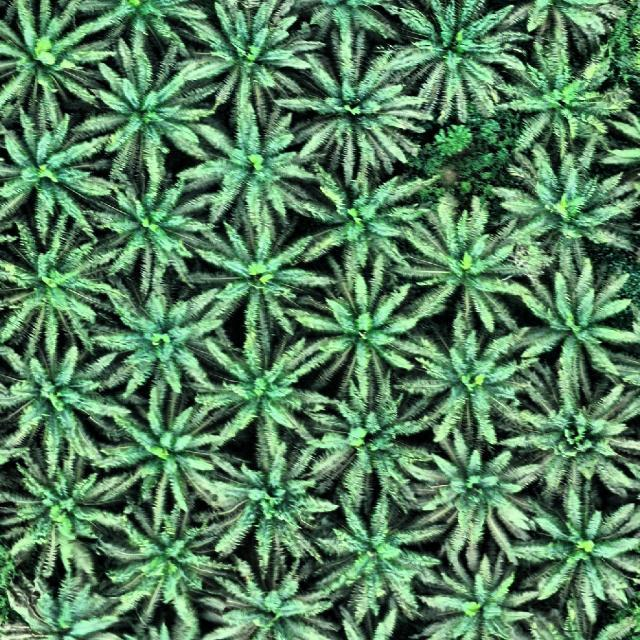Kelapa_Sawit: (300, 59, 428, 172), (215, 452, 332, 574), (523, 270, 636, 394), (306, 161, 422, 281), (508, 153, 625, 270), (192, 120, 314, 232), (406, 200, 517, 323), (6, 467, 127, 578), (392, 0, 511, 112), (88, 58, 200, 174), (209, 325, 314, 448), (116, 402, 225, 520), (528, 388, 638, 504), (97, 170, 203, 286), (0, 348, 108, 461), (324, 503, 434, 613), (320, 388, 418, 510), (536, 506, 640, 620), (106, 500, 212, 611), (108, 292, 214, 400), (210, 220, 318, 326), (200, 6, 305, 110), (428, 448, 538, 546), (5, 124, 99, 238), (316, 282, 416, 388), (214, 554, 336, 640), (0, 4, 98, 109), (418, 339, 516, 439), (0, 245, 92, 348), (512, 62, 608, 158), (1, 576, 120, 640), (433, 567, 533, 640), (516, 3, 624, 53), (92, 3, 210, 42)
